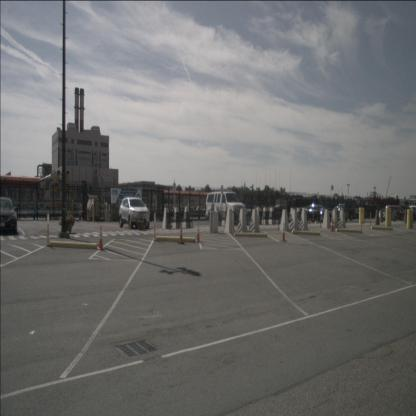cone: (97, 226, 105, 250), (46, 213, 51, 246), (195, 222, 201, 244), (178, 222, 184, 244), (280, 223, 286, 242), (153, 213, 157, 241), (330, 217, 334, 232), (360, 214, 363, 233), (369, 213, 371, 230)
